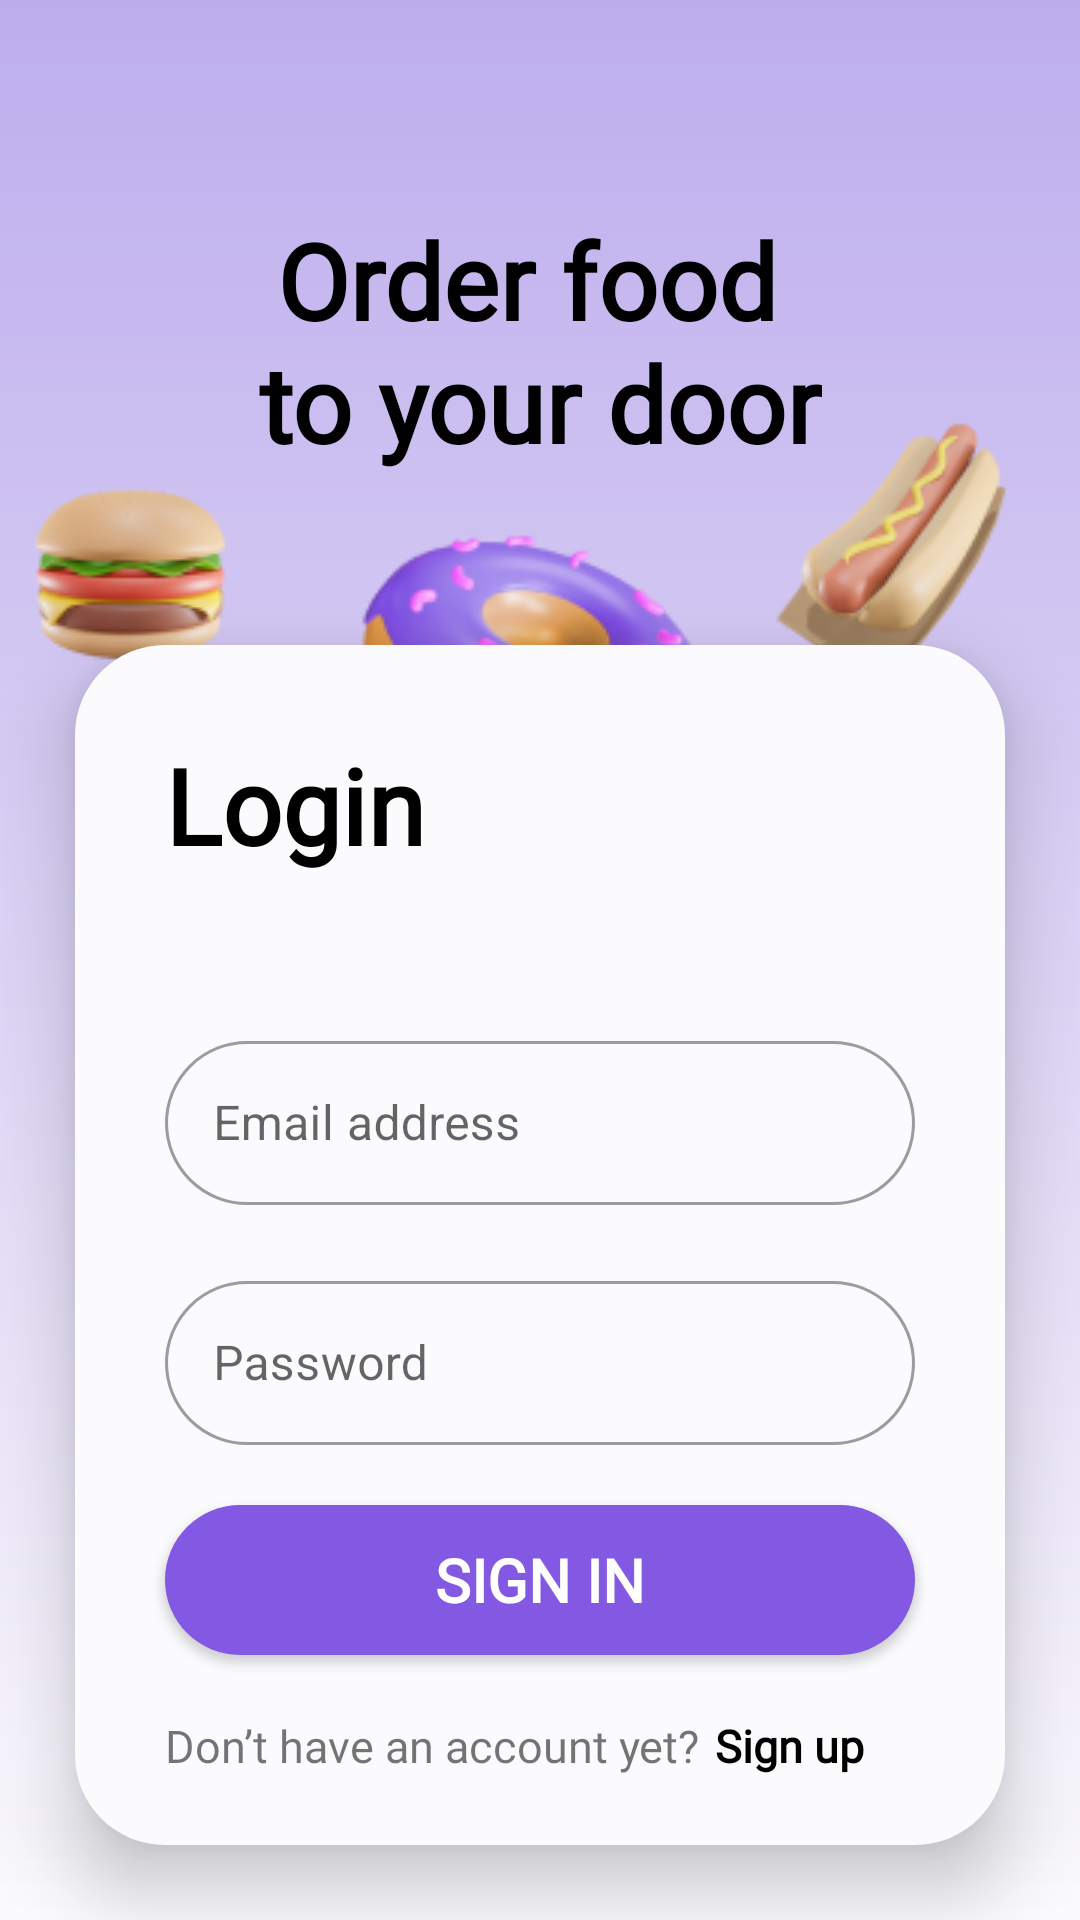

Icons on this 1080×1920 Android screen, each with the point to tap as point (x, y):
burger front: point (150, 579)
hot dog: point (864, 552)
